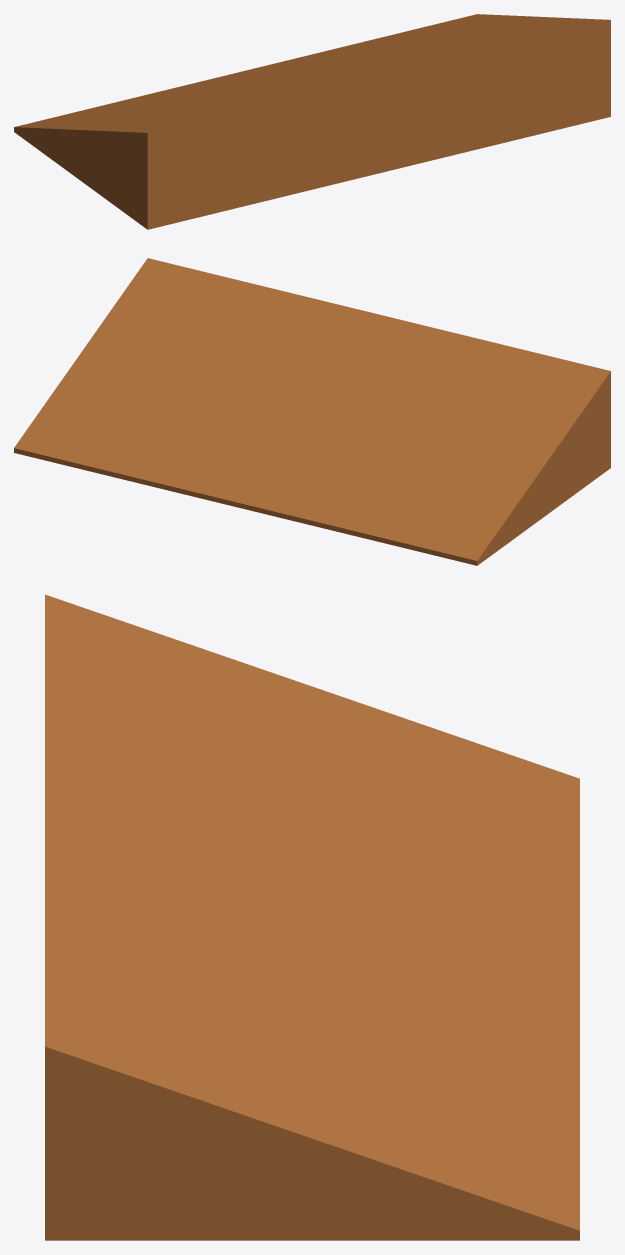
File: ramp_wood.fbx
The picture shows the model from 3 angles, top to bottom: view 1: azimuth 30°, elevation 25°; view 2: azimuth 150°, elevation 25°; view 3: azimuth 270°, elevation 25°; orthographic projection. The views are drawn at different scales.
Visible parts, largest first — view 1: ramp_wood; view 2: ramp_wood; view 3: ramp_wood.
Part boxes in pixels (<box>): ramp_wood: <box>14,14,610,229</box>; ramp_wood: <box>14,258,610,565</box>; ramp_wood: <box>45,594,579,1240</box>.
Bounding box in the file's own units: 3 × 0.6 × 1.5.
